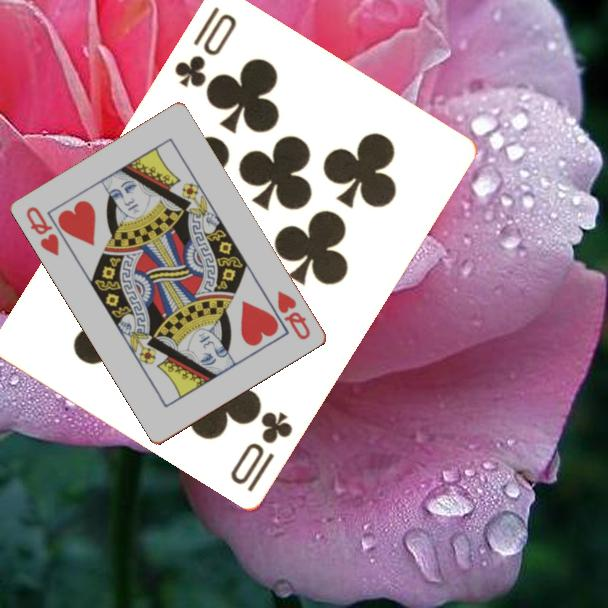c10: (226, 408, 296, 496), (171, 3, 240, 91)
h12: (274, 287, 314, 343), (23, 203, 63, 259)
